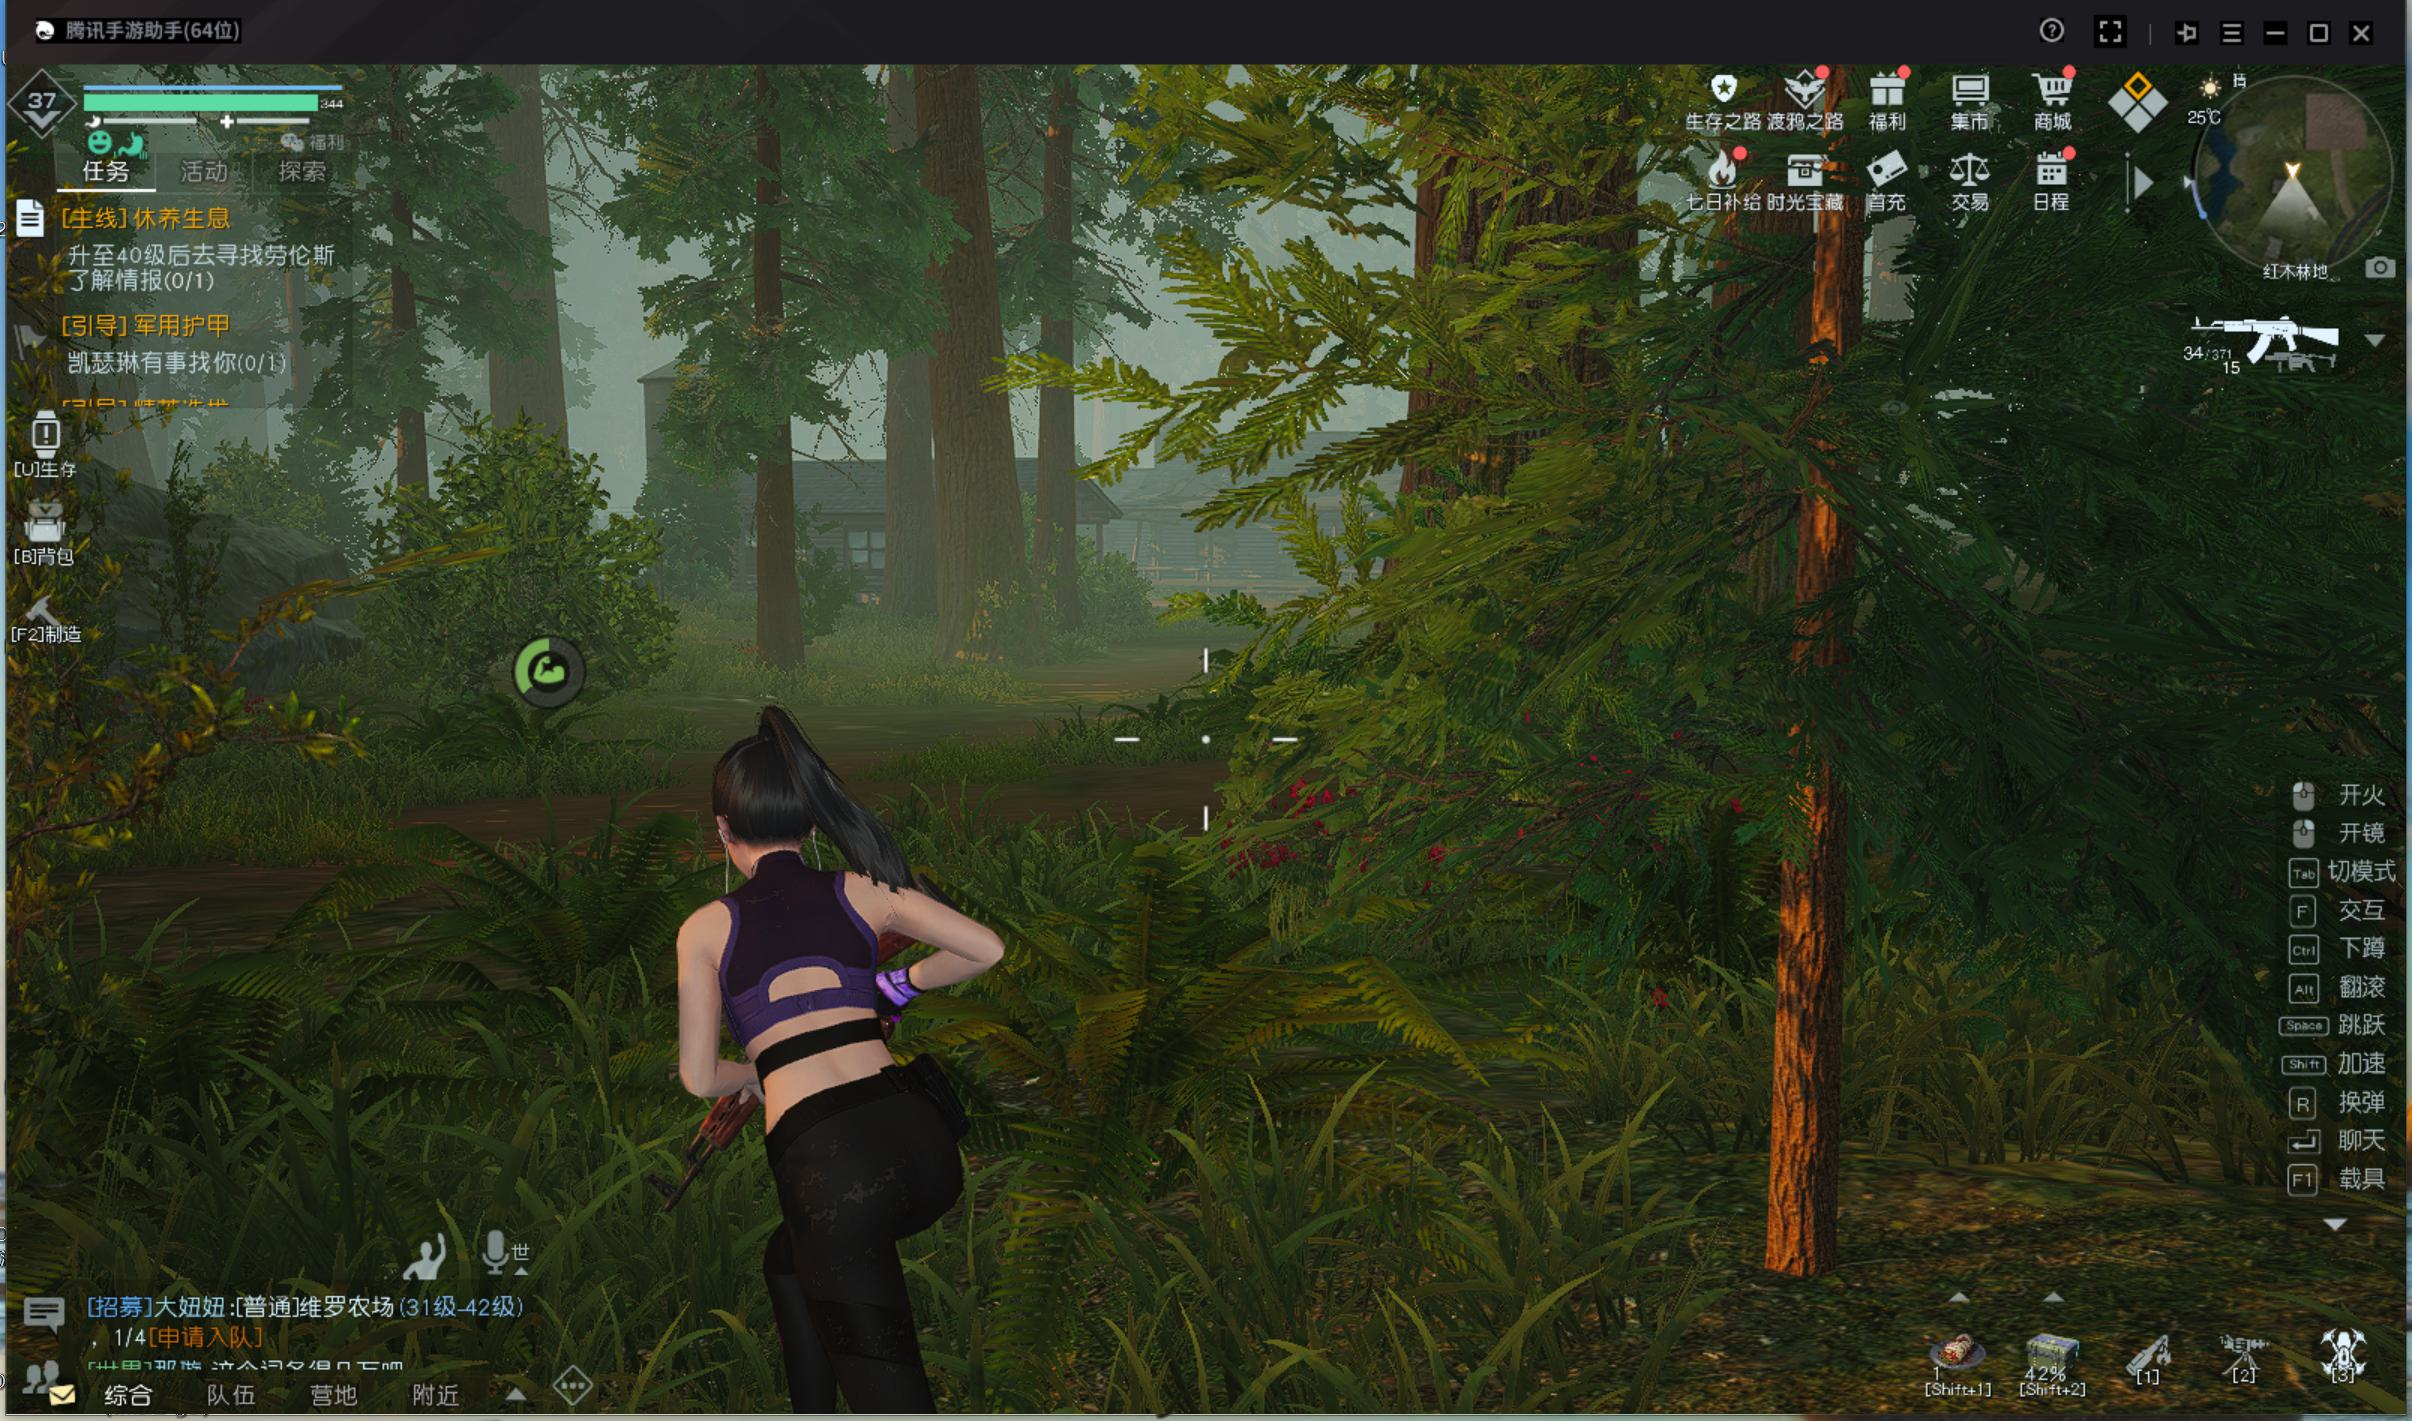tree: (917, 188, 1018, 663), (736, 254, 798, 668), (1033, 252, 1093, 667)
